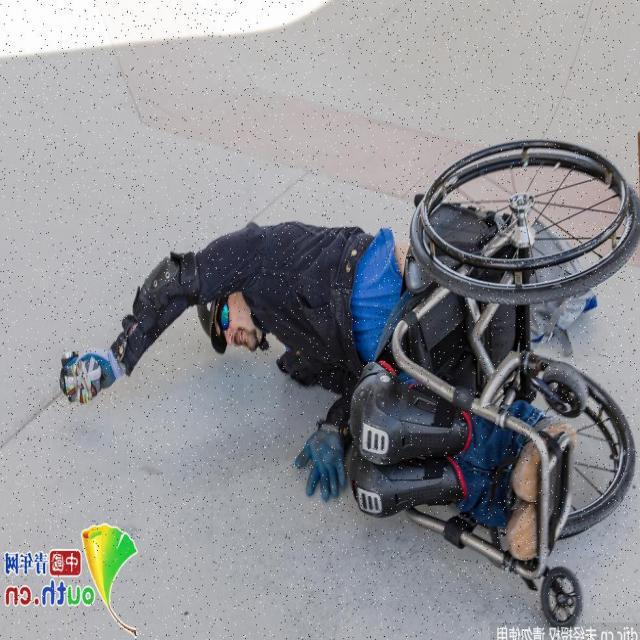fall: (59, 222, 515, 516)
